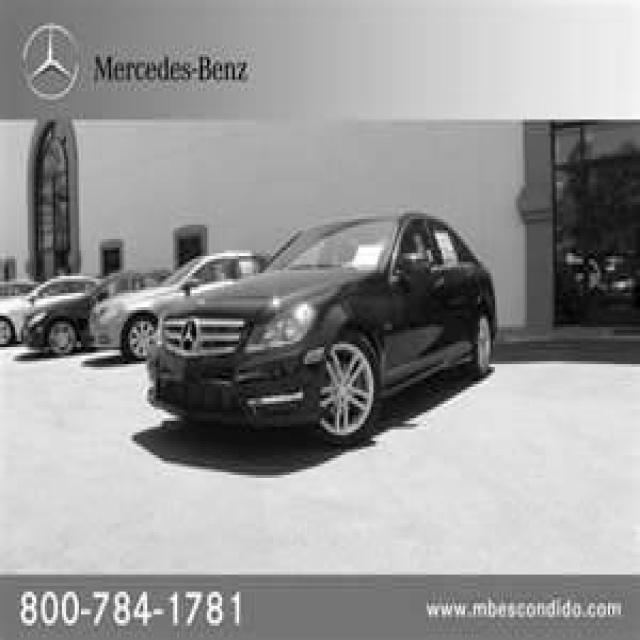car: (145, 208, 497, 447), (88, 260, 283, 358), (16, 271, 169, 356)
